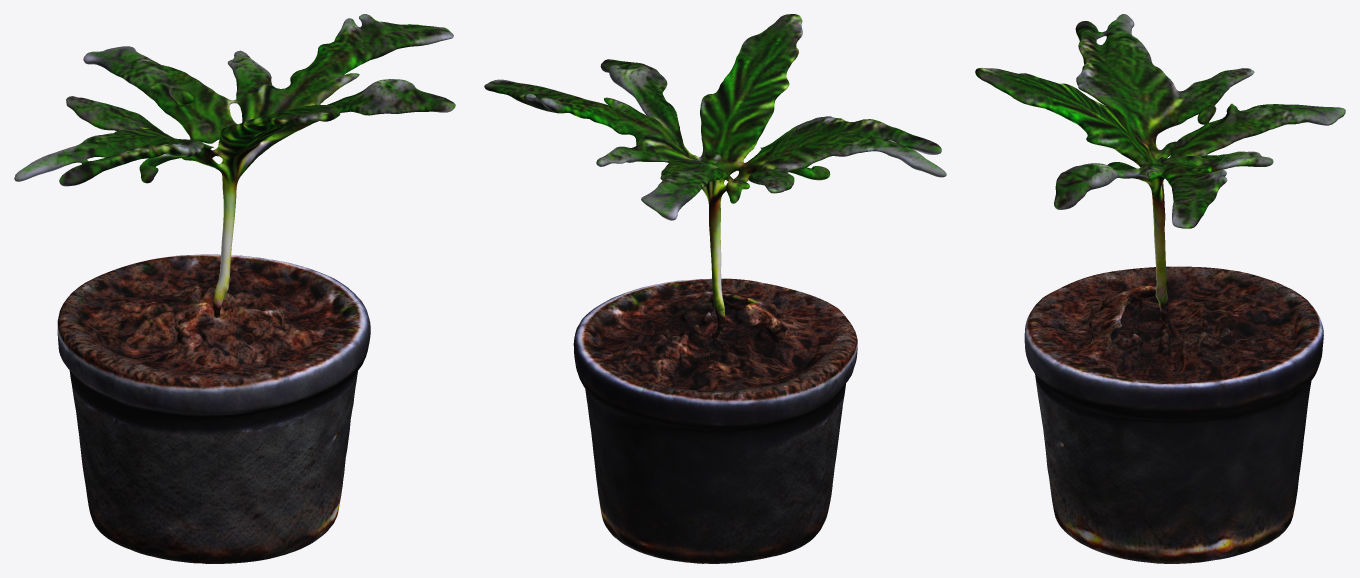
Rendered from 4inch.glb.
3 renders of one model, left to right at view 1: azimuth 30°, elevation 25°; view 2: azimuth 150°, elevation 25°; view 3: azimuth 270°, elevation 25°, orthographic. The views are drawn at different scales.
Parts seen in each view (by area): view 1: high_poly; view 2: high_poly; view 3: high_poly.
Boxes of the visible parts, bbox=[...] form: high_poly: bbox=[14, 14, 455, 563]; high_poly: bbox=[484, 14, 946, 563]; high_poly: bbox=[975, 14, 1345, 563].
Size of the model in its own units: 1 by 0.9625 by 0.7131.
Materials: 1 (1 with a texture image).
